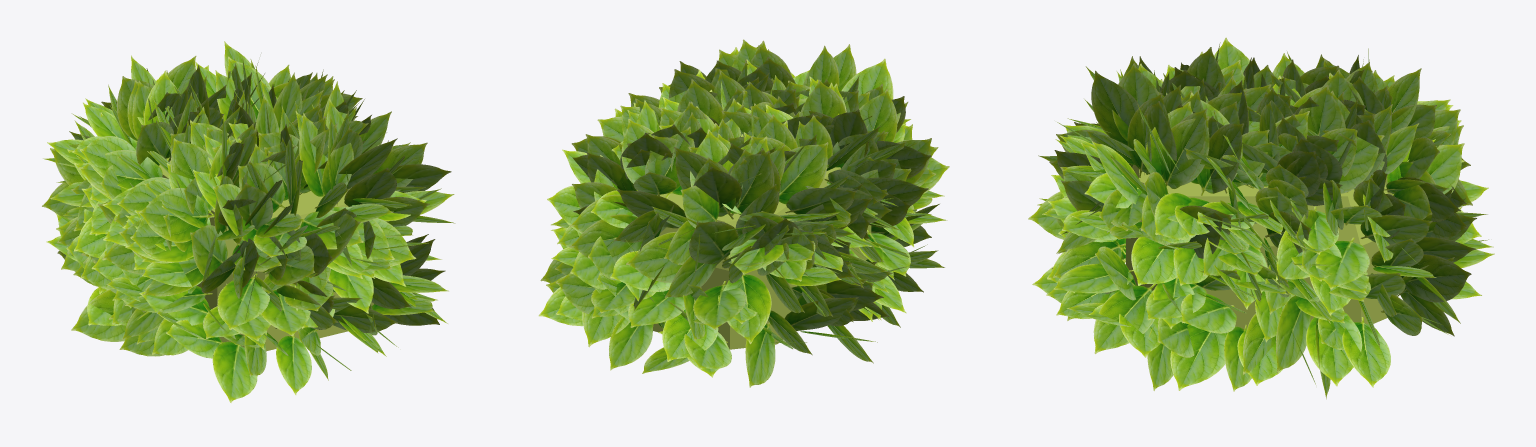
The model's file is bush.fbx.
The picture shows the model from 3 angles, left to right: view 1: azimuth 30°, elevation 25°; view 2: azimuth 150°, elevation 25°; view 3: azimuth 270°, elevation 25°; orthographic projection. The views are drawn at different scales.
Parts seen in each view (by area): view 1: leaf.500, Cube; view 2: leaf.500, Cube; view 3: leaf.500, Cube.
Boxes of the visible parts, x1,y1,x2,y2 form: leaf.500: [42, 41, 455, 402]; Cube: [159, 157, 373, 351]; leaf.500: [538, 39, 949, 387]; Cube: [653, 167, 871, 349]; leaf.500: [1028, 37, 1494, 399]; Cube: [1126, 165, 1397, 328].
Size of the model in its own units: 454 by 375 by 540.
